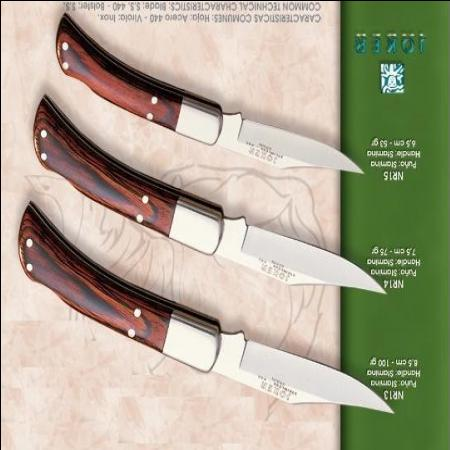long weapon: (210, 328, 398, 420), (210, 206, 390, 300), (212, 94, 367, 178)
